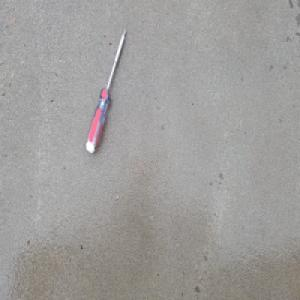Screwdriver: (84, 26, 127, 156)
